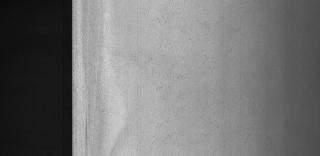silk spot: (142, 4, 218, 156)
